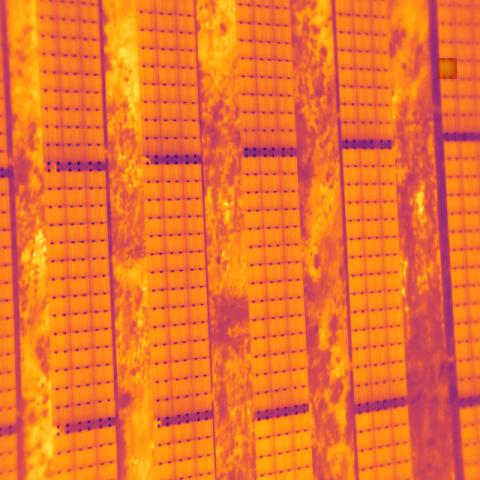fault: (439, 59, 457, 79)
